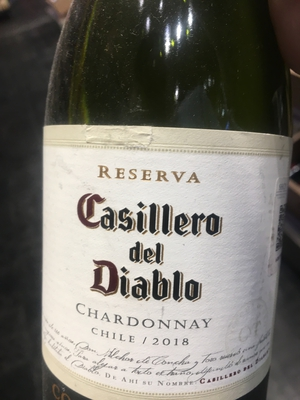casillero del diablo chardonnay: (42, 16, 295, 400)
